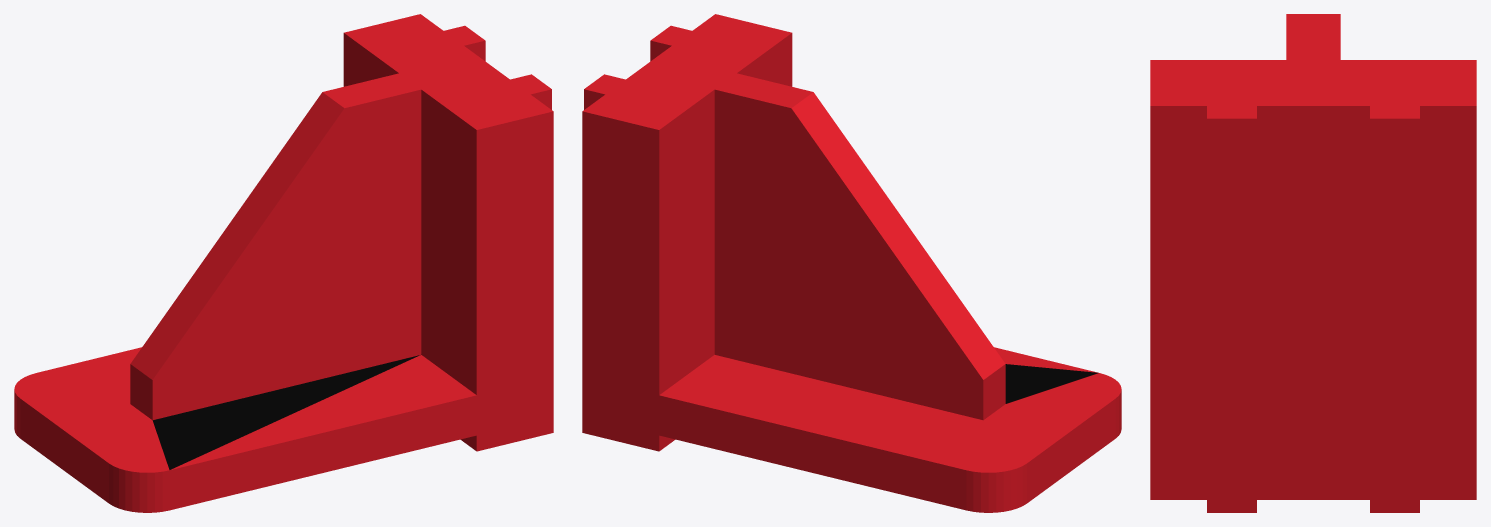
Rendered from Astorino_Robot_Gripper_Left.dae.
3 views of the same model, side by side, from view 1: azimuth 30°, elevation 25°; view 2: azimuth 150°, elevation 25°; view 3: azimuth 270°, elevation 25° (orthographic). The views are drawn at different scales.
Visible parts, largest first — view 1: Astorino Robot Gripper Left; view 2: Astorino Robot Gripper Left; view 3: Astorino Robot Gripper Left.
Part boxes in pixels (left/top/right/bottom): Astorino Robot Gripper Left: left=14, top=14, right=553, bottom=512; Astorino Robot Gripper Left: left=582, top=14, right=1121, bottom=512; Astorino Robot Gripper Left: left=1150, top=14, right=1476, bottom=512.
Size of the model in its own units: 0.0578 by 0.03 by 0.04.
